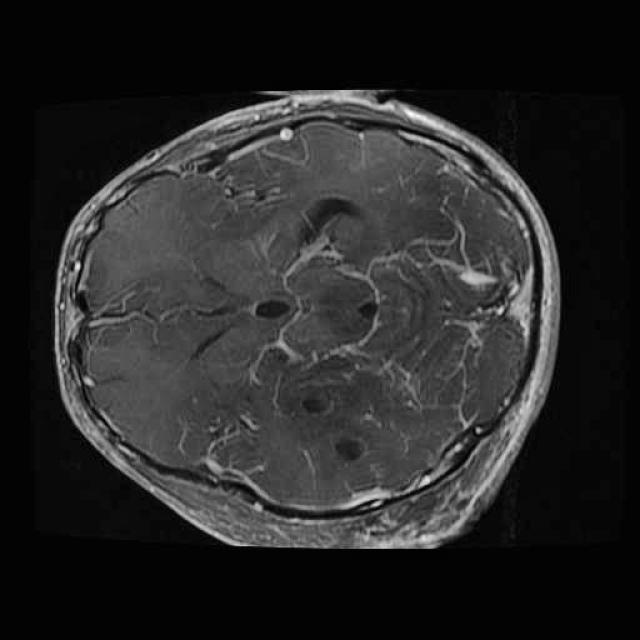Non-Tumor: (278, 360, 398, 486)
